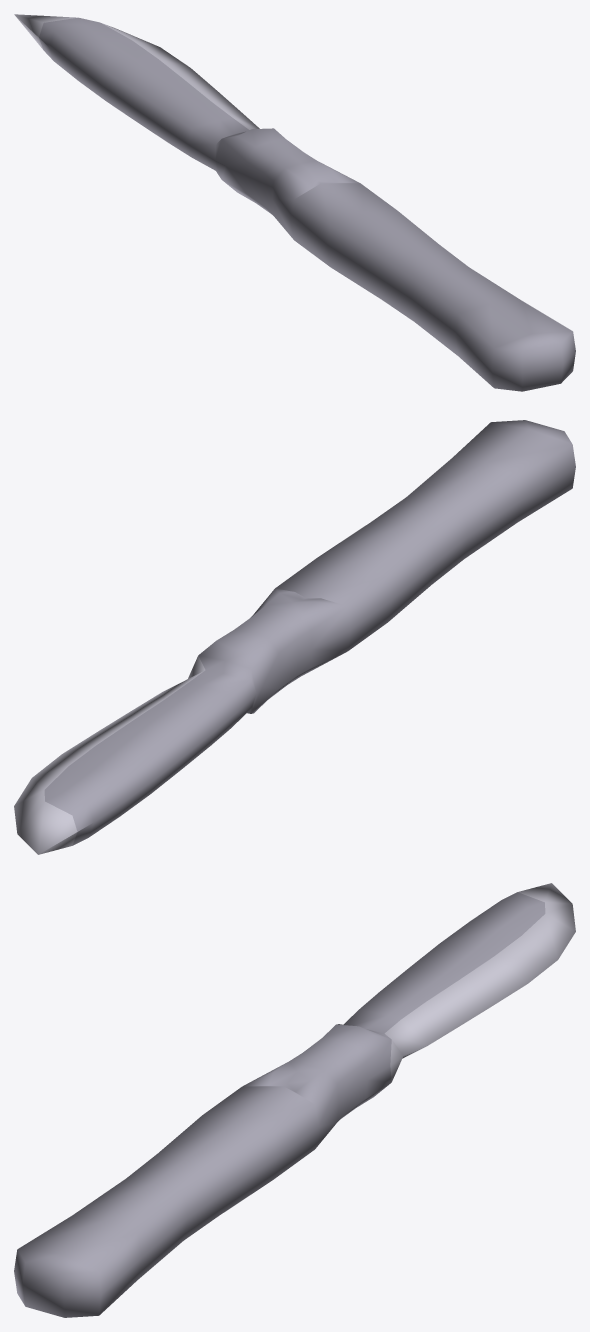
File: Cutter_M.fbx
3 renders of one model, top to bottom at view 1: azimuth 30°, elevation 25°; view 2: azimuth 150°, elevation 25°; view 3: azimuth 330°, elevation 25°, orthographic. The views are drawn at different scales.
Visible parts, largest first — view 1: Cutter_M; view 2: Cutter_M; view 3: Cutter_M.
Part boxes in pixels (box(x1,y1,x2,y2)): Cutter_M: box(14, 14, 575, 391); Cutter_M: box(14, 420, 575, 854); Cutter_M: box(14, 883, 575, 1317).
Size of the model in its own units: 25.85 by 16.77 by 256.
Materials: 1 (1 with a texture image).
